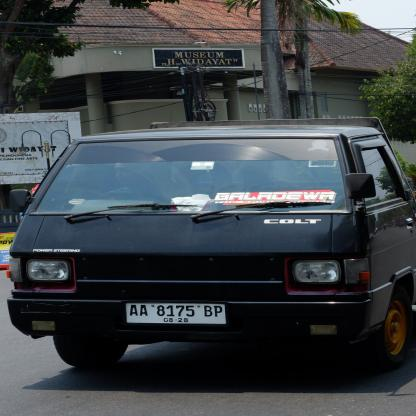Plat-Nomor: (121, 301, 231, 328)
